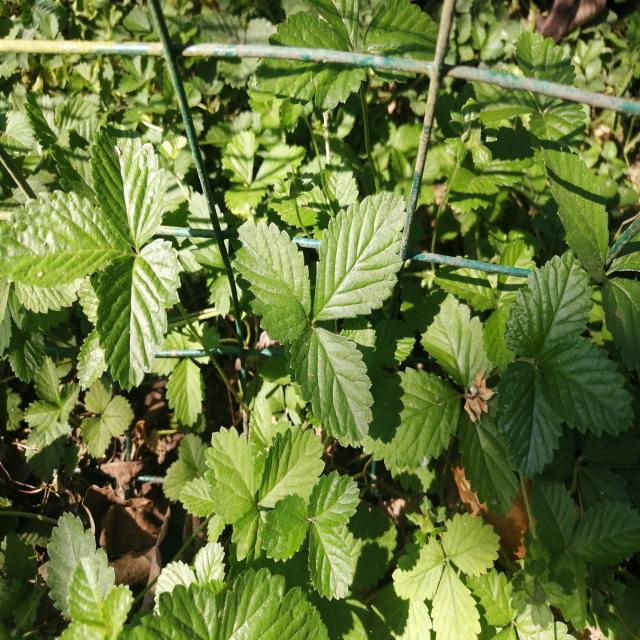Mock_strawberry: (409, 250, 618, 504), (0, 133, 212, 383), (230, 189, 417, 439), (176, 407, 372, 605)
